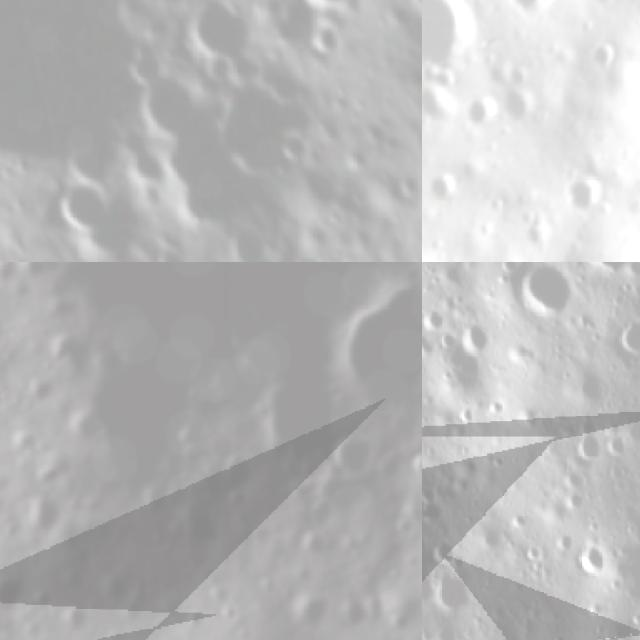crater: (0, 0, 170, 196), (327, 283, 422, 414), (129, 58, 225, 156), (34, 162, 120, 250), (172, 0, 266, 78), (428, 331, 503, 411), (513, 262, 585, 322), (422, 0, 470, 72), (295, 15, 354, 71), (428, 564, 488, 615), (219, 214, 275, 262), (562, 352, 606, 407), (287, 0, 372, 28), (500, 81, 545, 132), (562, 175, 612, 217), (24, 491, 65, 542), (573, 535, 615, 583), (282, 592, 332, 632), (62, 410, 111, 450), (424, 165, 466, 210), (456, 90, 497, 134), (422, 77, 457, 128), (572, 426, 616, 466), (328, 440, 369, 482), (510, 394, 550, 436), (586, 39, 622, 82), (21, 377, 59, 416), (458, 318, 496, 357), (558, 462, 596, 499), (60, 604, 100, 638), (0, 571, 29, 615), (46, 334, 80, 371), (505, 0, 562, 22), (610, 311, 640, 352), (4, 428, 42, 459), (221, 452, 250, 492), (136, 482, 176, 511), (583, 262, 636, 283), (430, 530, 460, 563), (338, 598, 372, 626), (619, 402, 640, 447), (297, 530, 329, 558), (422, 299, 448, 332), (562, 489, 592, 515), (102, 579, 134, 603), (170, 425, 199, 451), (23, 262, 62, 281), (523, 540, 551, 564), (181, 380, 205, 405), (180, 611, 202, 636), (394, 517, 417, 539), (254, 576, 278, 596), (219, 605, 240, 626), (410, 449, 422, 480), (384, 566, 405, 582)
